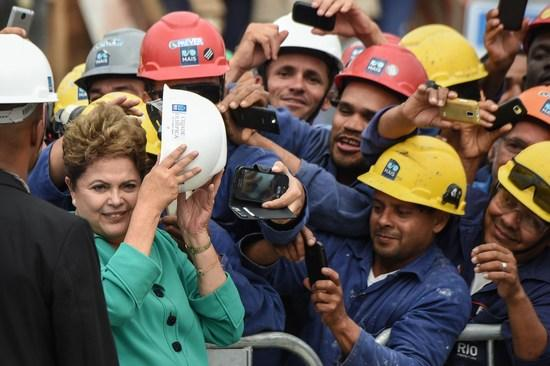helmet: (161, 85, 232, 194), (359, 138, 467, 208), (140, 12, 233, 83), (338, 34, 430, 96), (401, 26, 488, 88), (75, 26, 160, 87), (493, 133, 550, 222), (259, 12, 345, 67), (1, 33, 61, 103), (508, 82, 550, 124), (523, 1, 550, 39)
